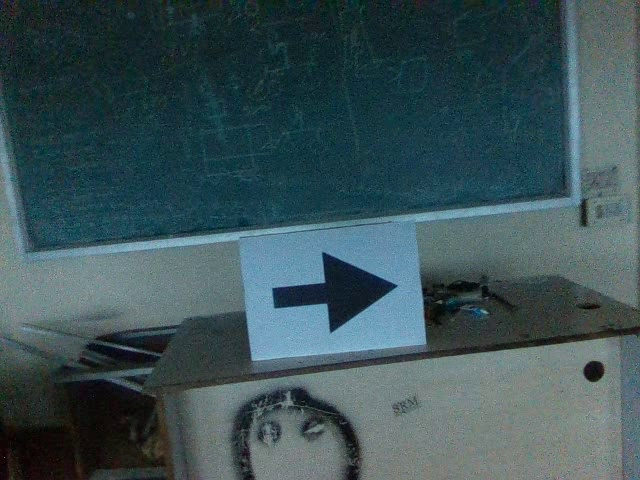Right: (264, 248, 399, 335)
